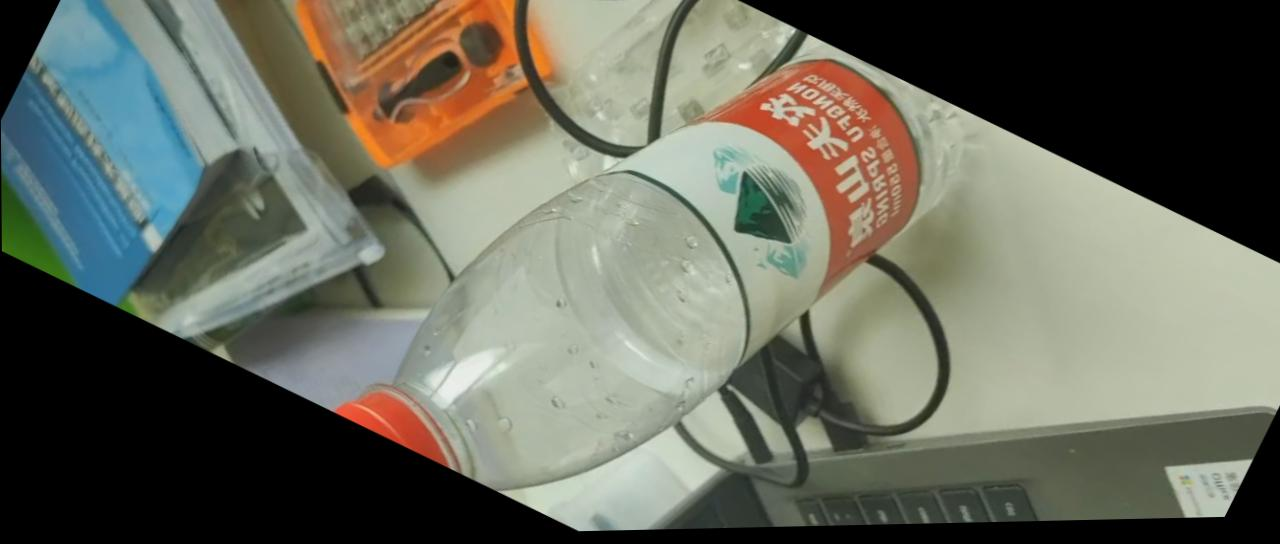plastic: (339, 10, 1012, 527), (3, 0, 446, 403)
